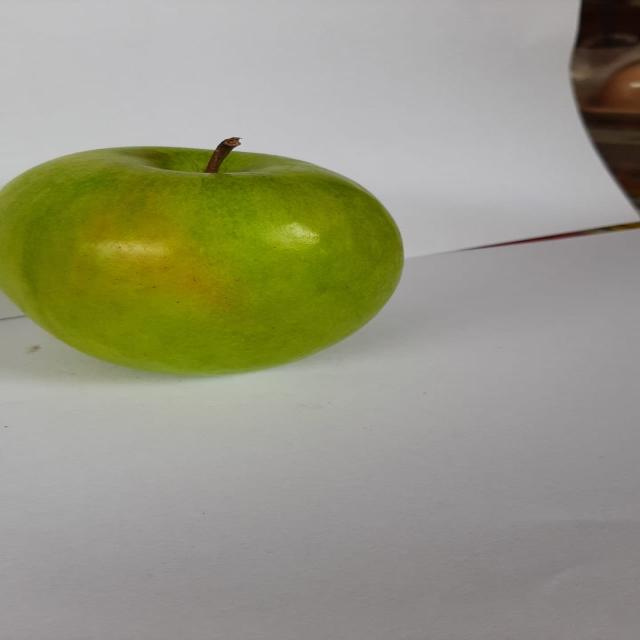50-_ripeness: (4, 118, 427, 392)
